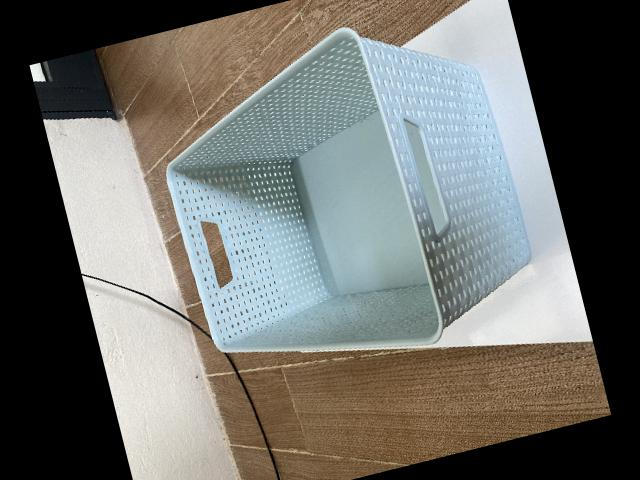cart: (166, 25, 534, 352)
